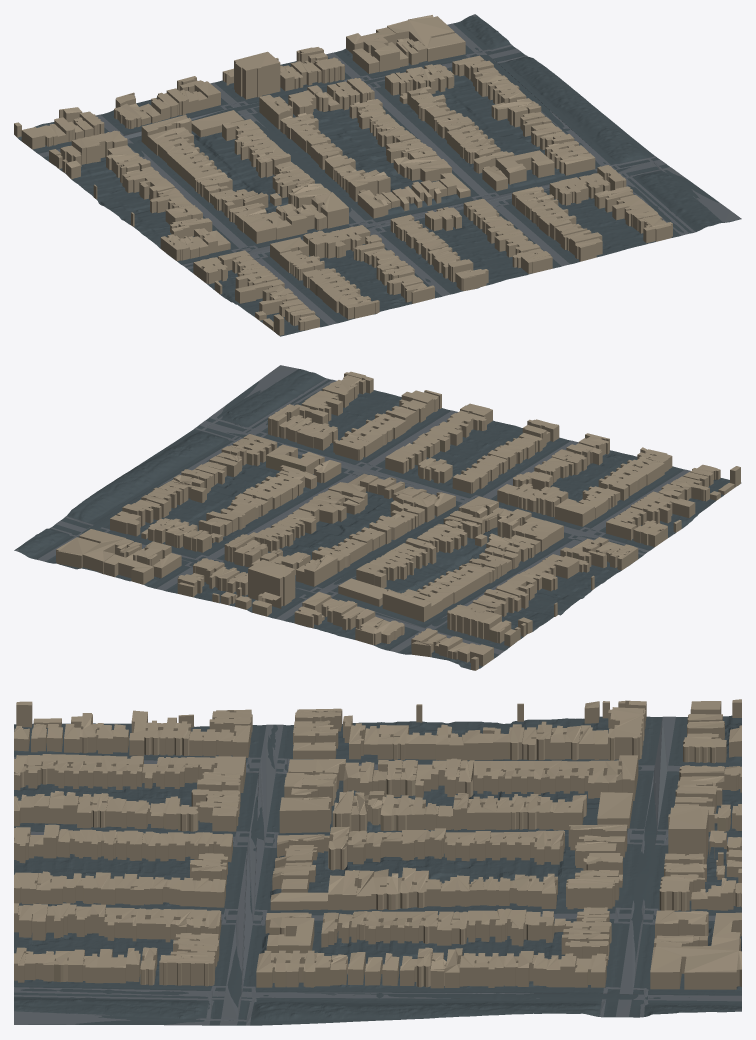
Rendered from epsg26910-1422-10890.lod0.glb.
3 renders of one model, top to bottom at view 1: azimuth 30°, elevation 25°; view 2: azimuth 150°, elevation 25°; view 3: azimuth 270°, elevation 25°, orthographic. The views are drawn at different scales.
Visible parts, largest first — view 1: epsg26910-1422-10890-lod0; view 2: epsg26910-1422-10890-lod0; view 3: epsg26910-1422-10890-lod0.
Boxes of the visible parts, left/top/right/bottom form: epsg26910-1422-10890-lod0: left=14, top=14, right=741, bottom=336; epsg26910-1422-10890-lod0: left=14, top=365, right=741, bottom=670; epsg26910-1422-10890-lod0: left=14, top=699, right=741, bottom=1025.
Bounding box in the file's own units: 384 × 34.34 × 384.
